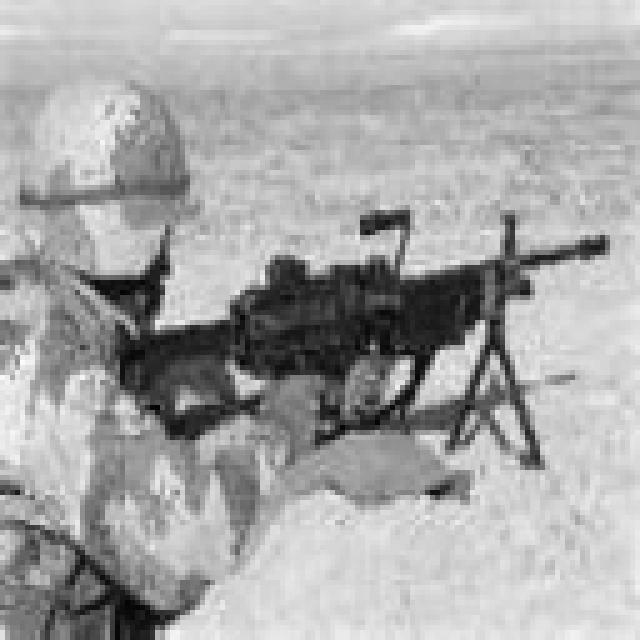Rifle: (91, 189, 640, 483)
